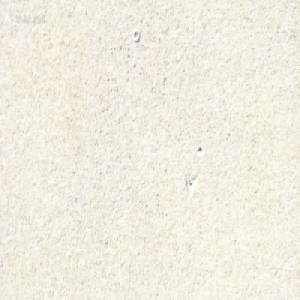Washer: (132, 28, 140, 41)
